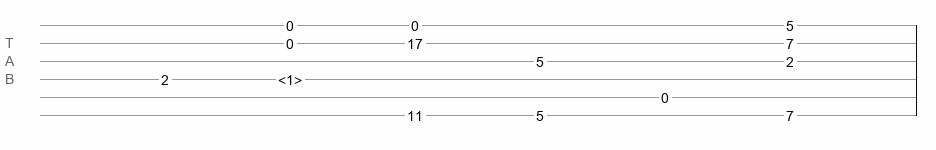0: (286, 36, 294, 46), (286, 18, 294, 28), (411, 18, 419, 28), (661, 90, 669, 100)
11: (407, 108, 423, 118)
17: (407, 36, 423, 46)
2: (161, 72, 169, 82), (786, 54, 794, 64)
5: (536, 108, 544, 118), (536, 54, 544, 64), (786, 18, 794, 28)
7: (786, 108, 794, 118), (786, 36, 794, 46)
harmonic: (278, 72, 302, 82)
